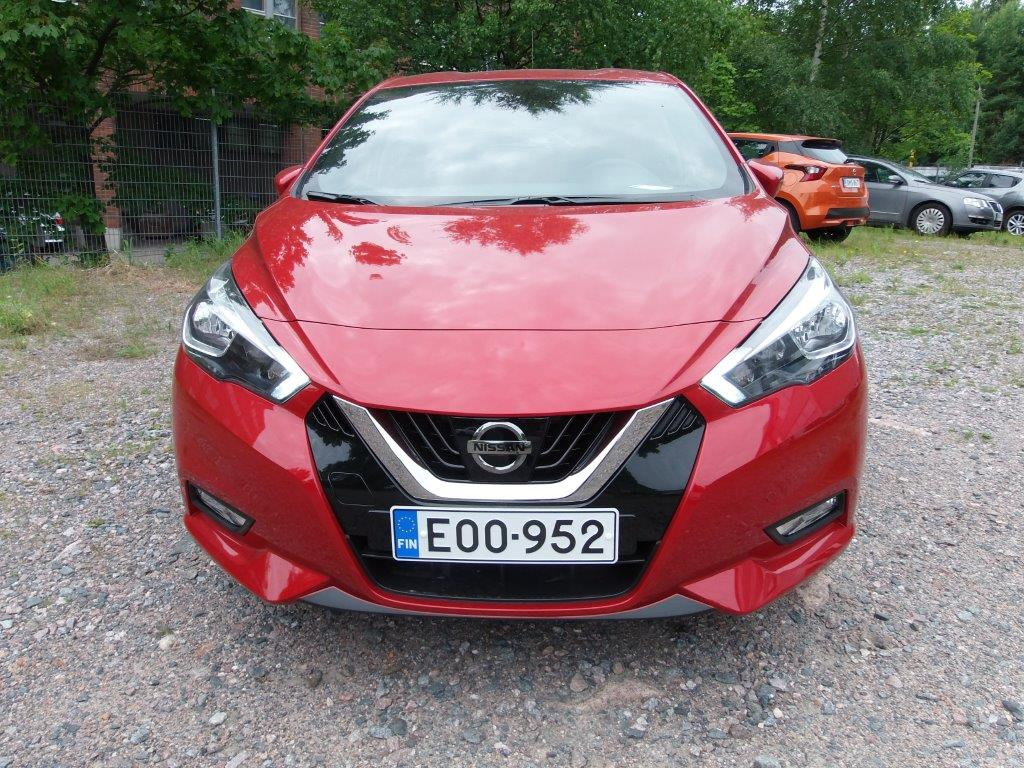license: (386, 504, 616, 565)
